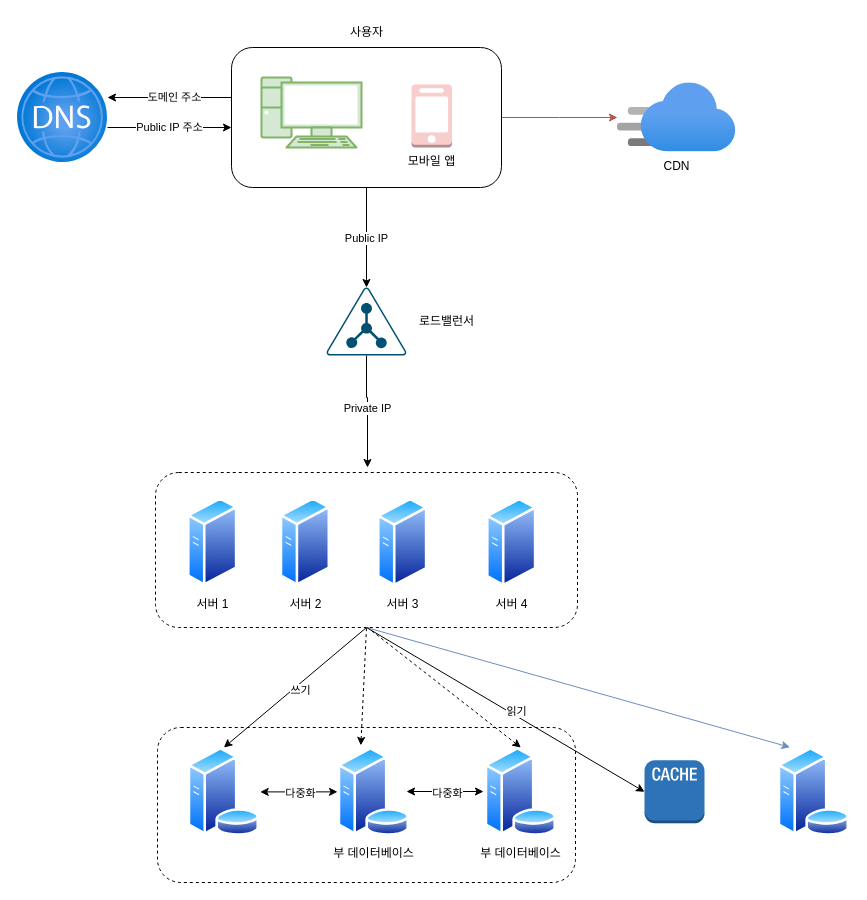
Image size: 867x900. Some labels were removed from this diagram. The centre of each missing label's shape, as x and y in pixels:
NoSQL: point 813,791
웹 브라우저: point 311,112
주 데이터베이스: point 223,791
캐시: point 674,791
